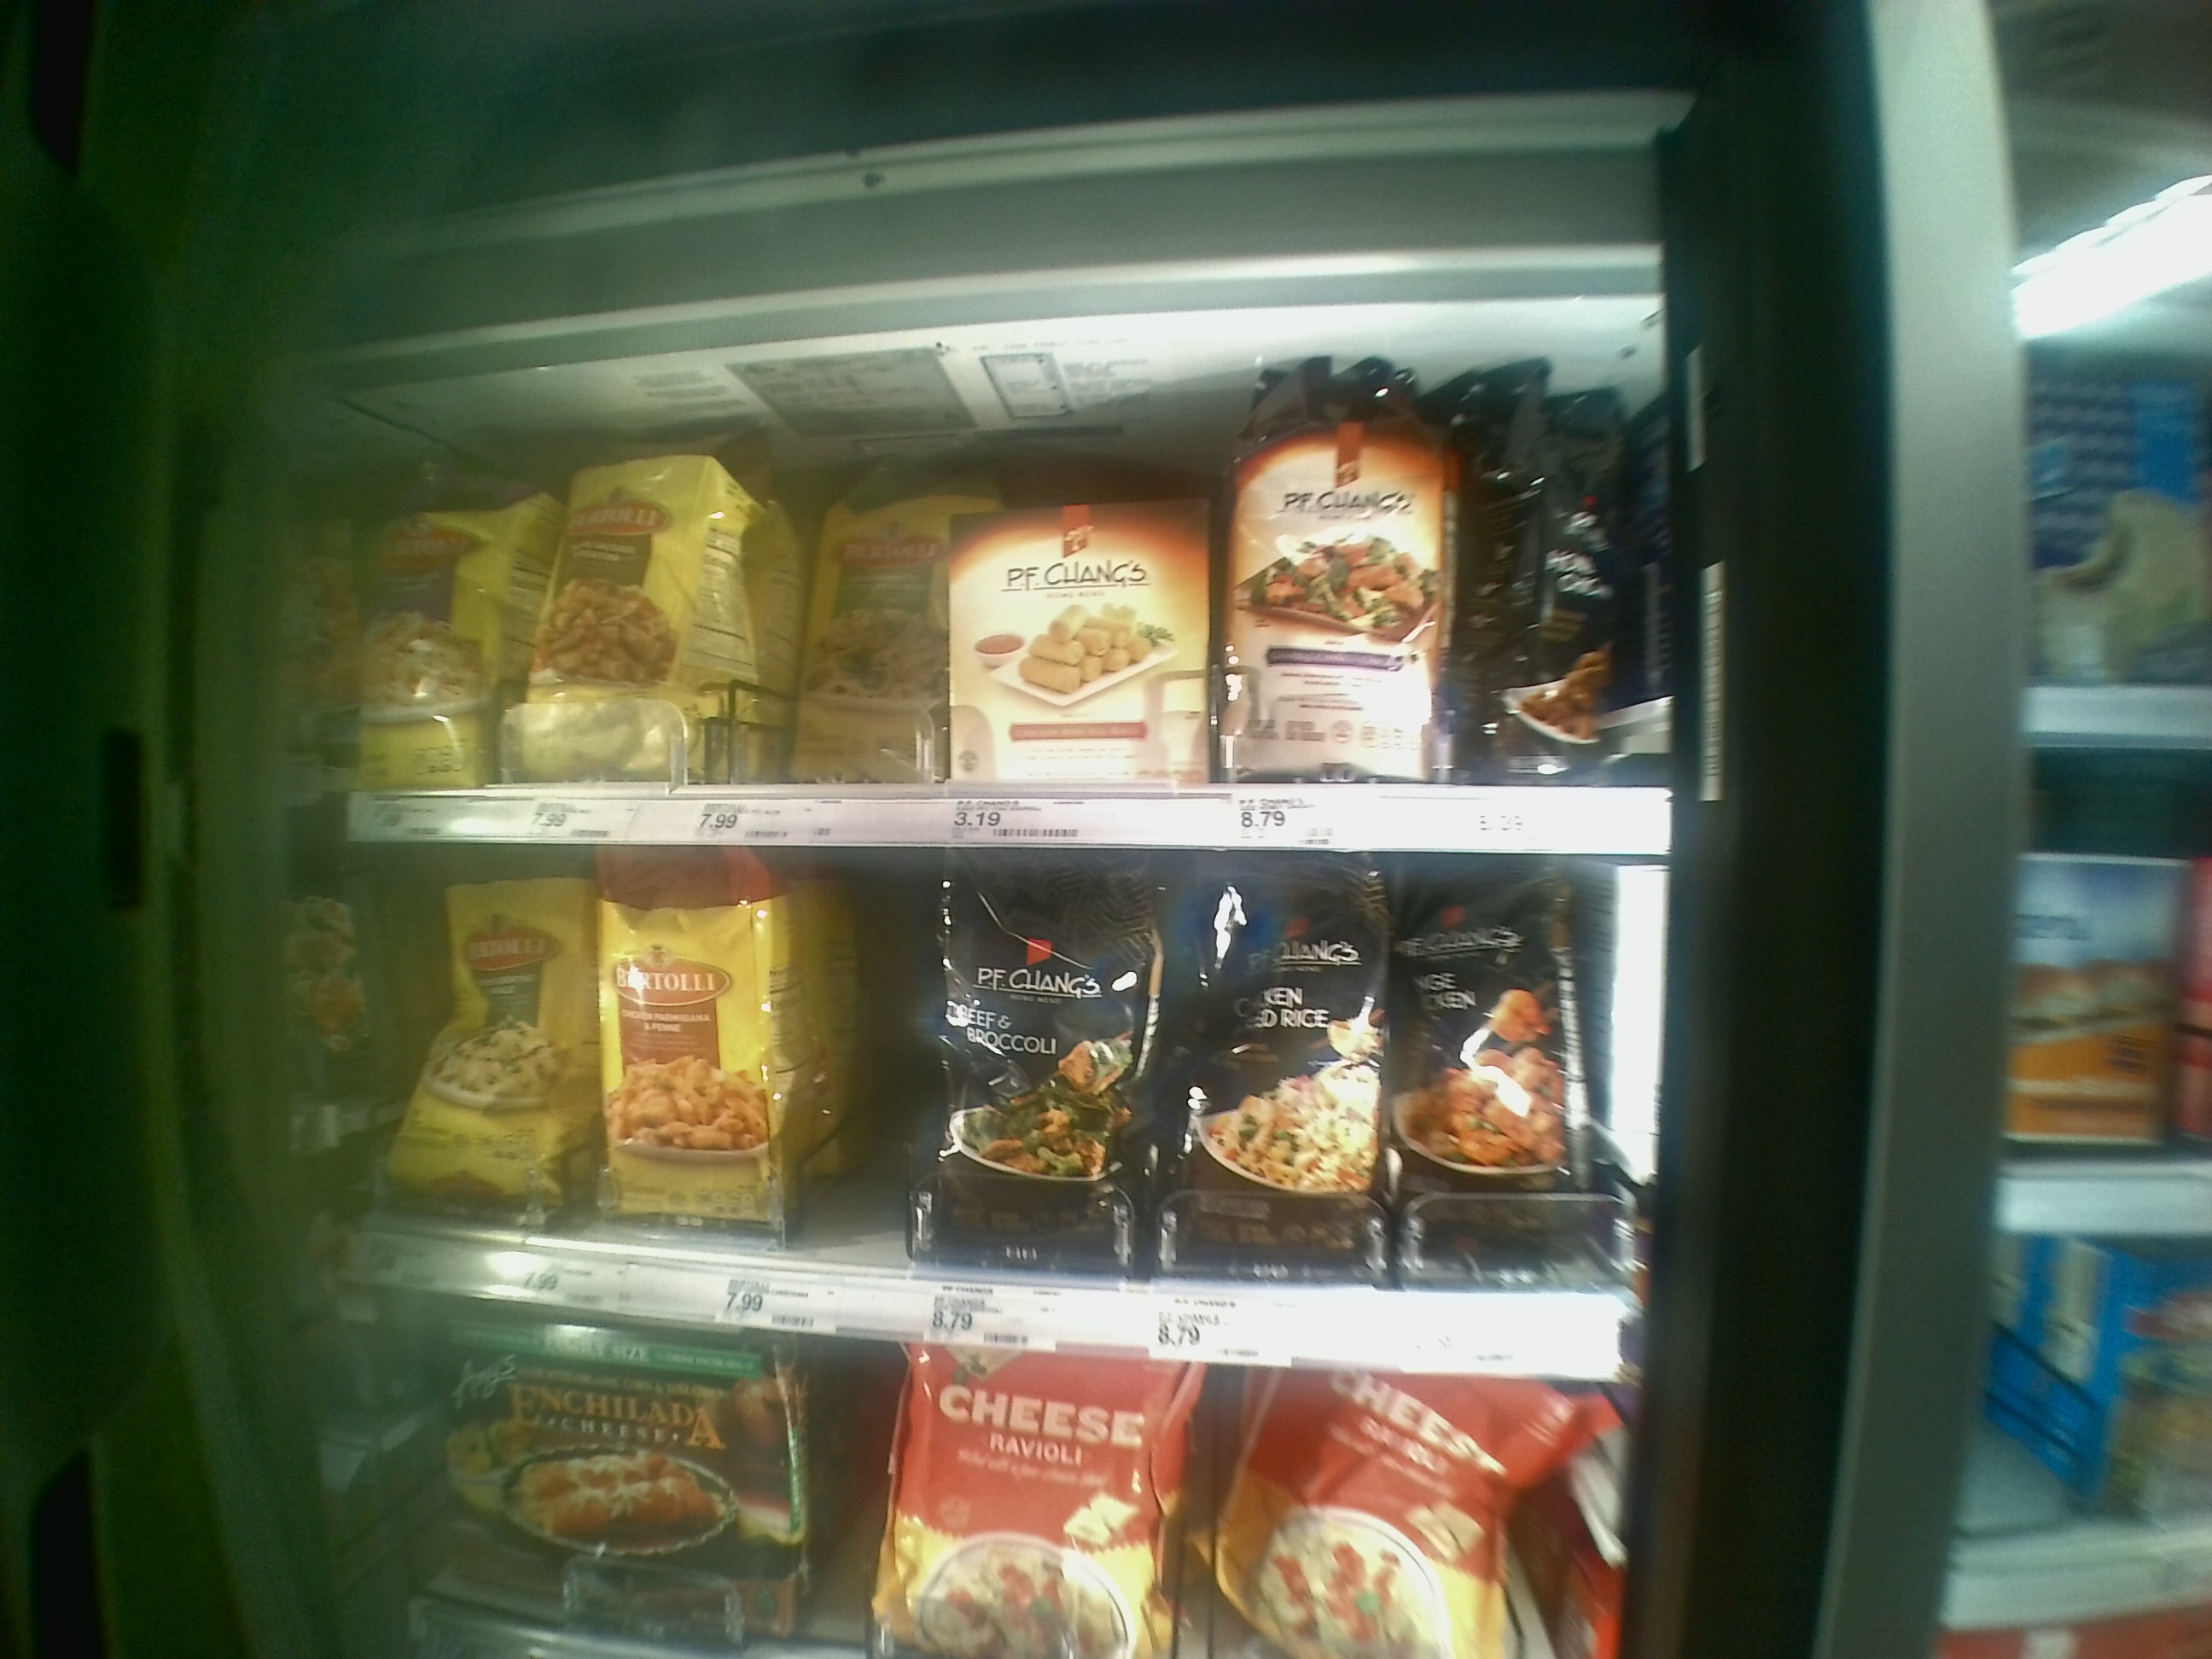shelf: (338, 866, 1622, 1378), (350, 504, 1667, 854)
